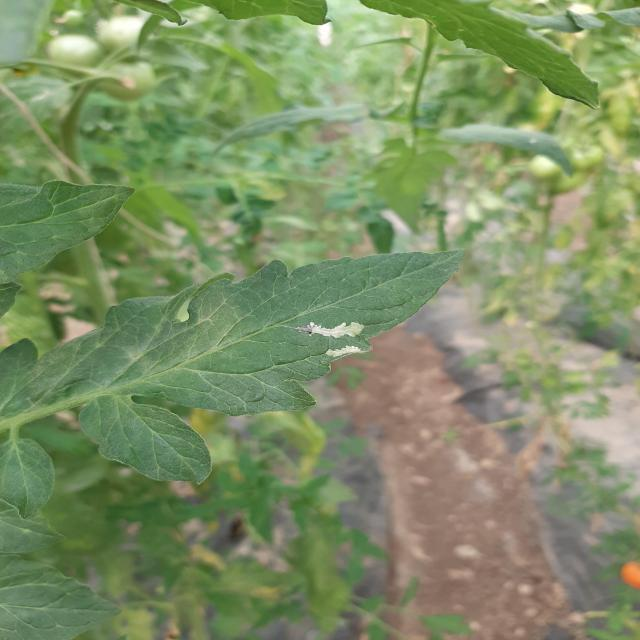Tuta absoluta: (297, 322, 364, 338), (325, 343, 365, 360)
